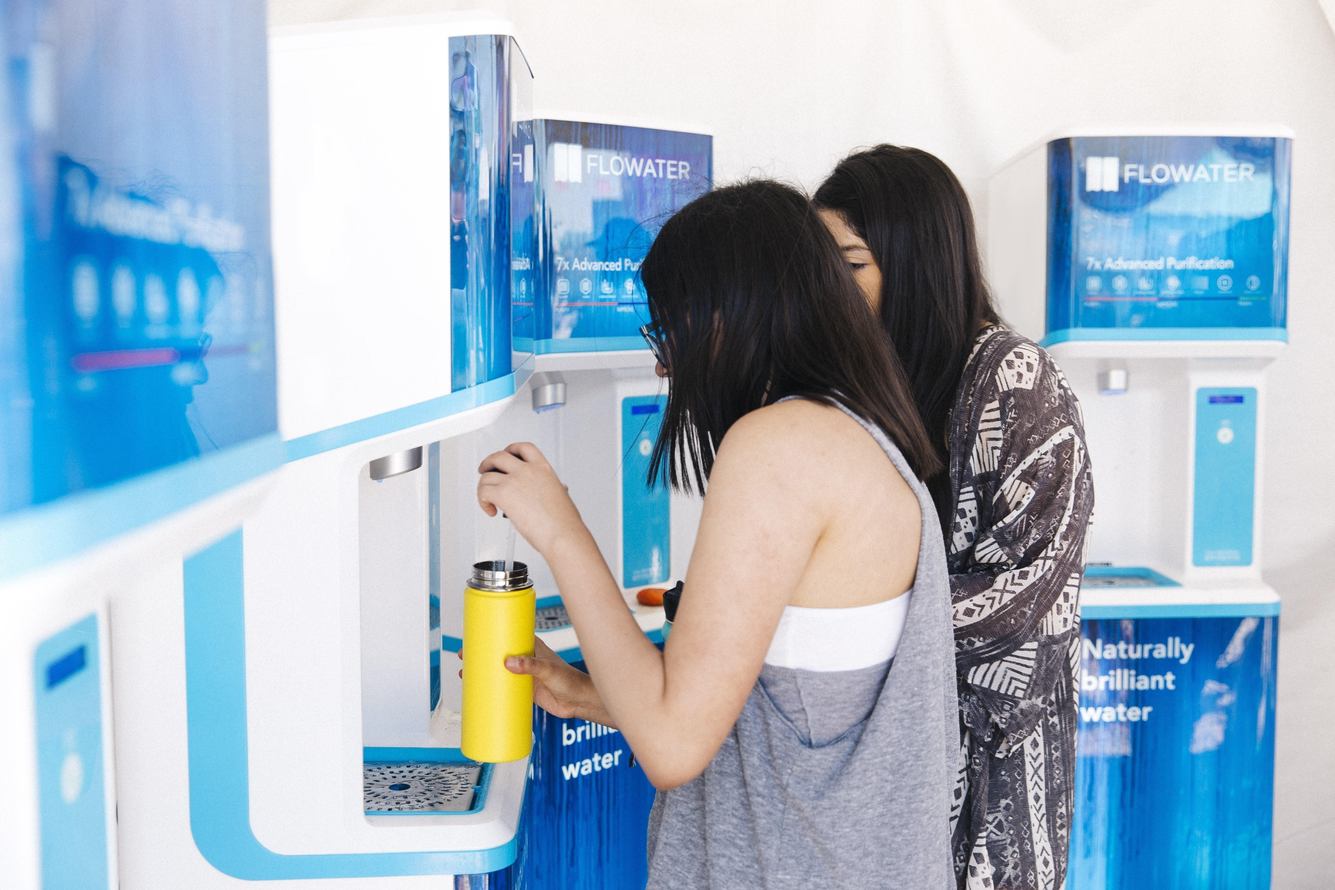gym bottle: (458, 557, 537, 764)
